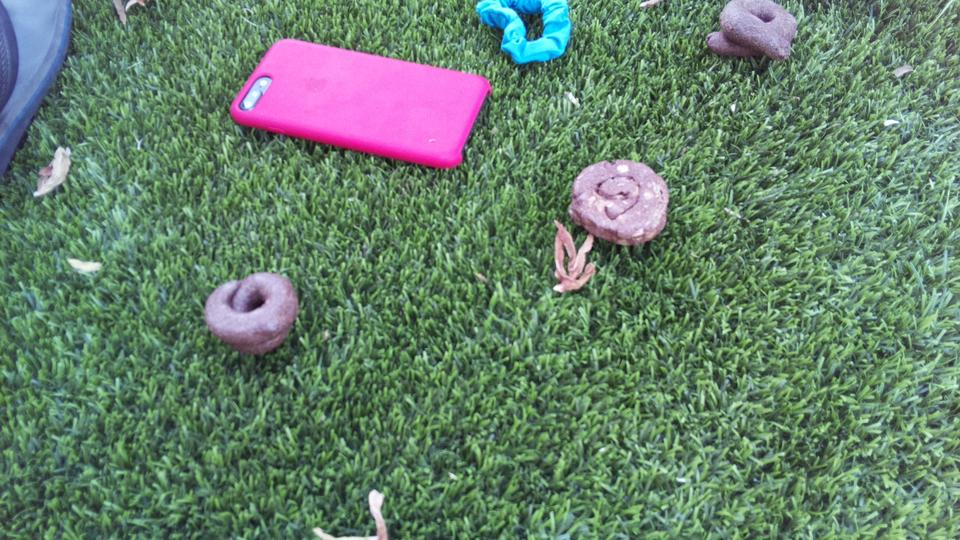poop: (563, 153, 675, 253), (194, 267, 303, 361), (703, 1, 802, 68)
